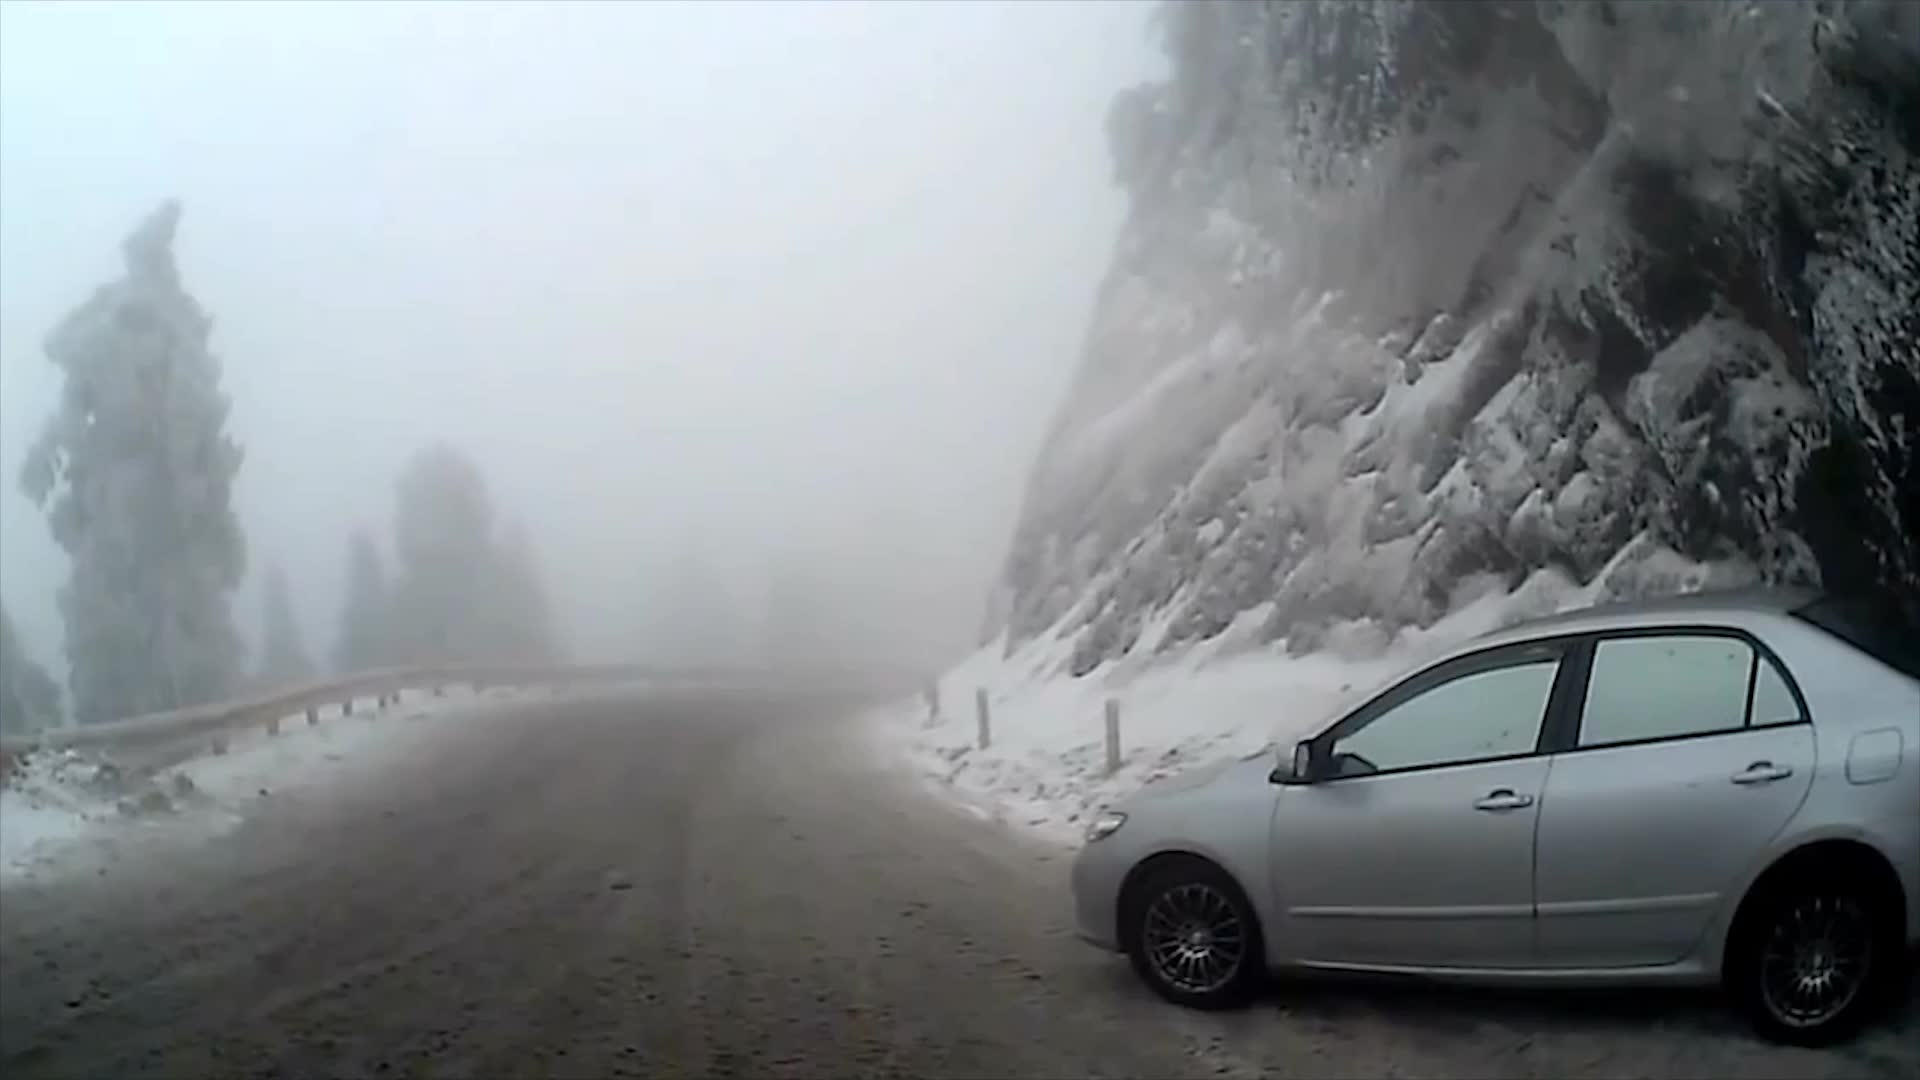vehicle: (1068, 583, 1920, 1050)
